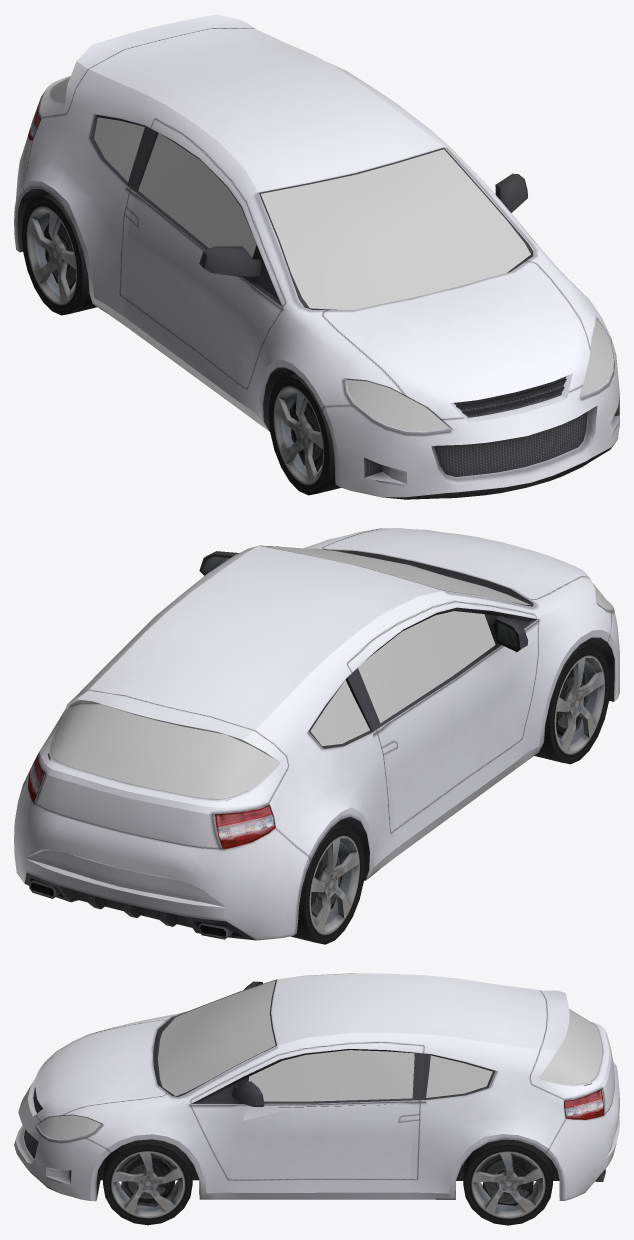
3 views of the same model, one above another, from view 1: azimuth 30°, elevation 25°; view 2: azimuth 150°, elevation 25°; view 3: azimuth 270°, elevation 25° (orthographic). The views are drawn at different scales.
Parts seen in each view (by area): view 1: Body_25, Glass_25, Matte_25, Wheel_Back_R, Wheel_R, Glass_light, break_R; view 2: Body_25, Glass_25, Matte_25, Wheel_Back_R, Wheel_R, Tailllights_25, break_R; view 3: Body_25, Glass_25, Matte_25, Wheel_Back_L, Wheel_L, break_L, Glass_light, Tailllights_25.
Part boxes in pixels (bbox=[...]): Body_25: bbox=[14, 14, 619, 497]; Glass_25: bbox=[51, 77, 530, 309]; Matte_25: bbox=[17, 114, 619, 499]; Wheel_Back_R: bbox=[21, 194, 96, 315]; Wheel_R: bbox=[268, 374, 341, 495]; Glass_light: bbox=[347, 320, 612, 430]; break_R: bbox=[289, 398, 323, 471]; Body_25: bbox=[14, 528, 619, 940]; Glass_25: bbox=[51, 546, 530, 798]; Matte_25: bbox=[24, 545, 614, 940]; Wheel_Back_R: bbox=[290, 823, 365, 944]; Wheel_R: bbox=[534, 643, 610, 764]; Tailllights_25: bbox=[28, 755, 275, 849]; break_R: bbox=[556, 668, 588, 738]; Body_25: bbox=[14, 973, 619, 1201]; Glass_25: bbox=[158, 980, 602, 1101]; Matte_25: bbox=[24, 979, 605, 1205]; Wheel_Back_L: bbox=[463, 1139, 552, 1225]; Wheel_L: bbox=[103, 1139, 192, 1225]; break_L: bbox=[121, 1155, 175, 1206]; Glass_light: bbox=[37, 1115, 100, 1139]; Tailllights_25: bbox=[564, 1089, 603, 1119].
Size of the model in its own units: 79.55 by 55.91 by 177.
